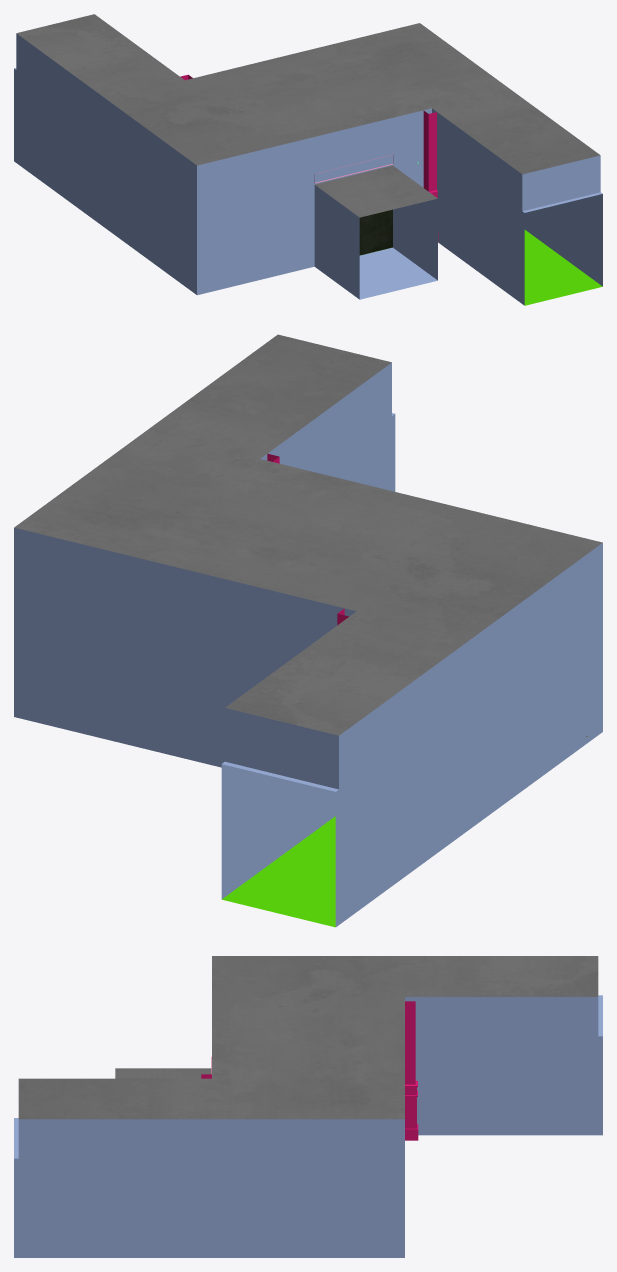
The model's file is RoomS5.fbx.
The picture shows the model from 3 angles, top to bottom: view 1: azimuth 30°, elevation 25°; view 2: azimuth 150°, elevation 25°; view 3: azimuth 270°, elevation 25°; orthographic projection. The views are drawn at different scales.
Parts seen in each view (by area): view 1: Plane.008, Plane.020, Plane.019, Двери.002, Cube.017; view 2: Plane.008, Plane.020, Plane.019; view 3: Plane.008, Plane.020, Cube.016.
Boxes of the visible parts, x1,y1,x2,y2 form: Plane.008: (14, 33, 602, 305); Plane.020: (16, 14, 600, 217); Plane.019: (391, 230, 602, 305); Двери.002: (359, 209, 392, 255); Cube.017: (423, 110, 438, 241); Plane.008: (14, 363, 602, 926); Plane.020: (14, 334, 602, 735); Plane.019: (222, 816, 335, 927); Plane.008: (14, 995, 602, 1257); Plane.020: (18, 956, 598, 1119); Cube.016: (405, 1001, 418, 1140).
Size of the model in its own units: 800 by 317 by 1220.
